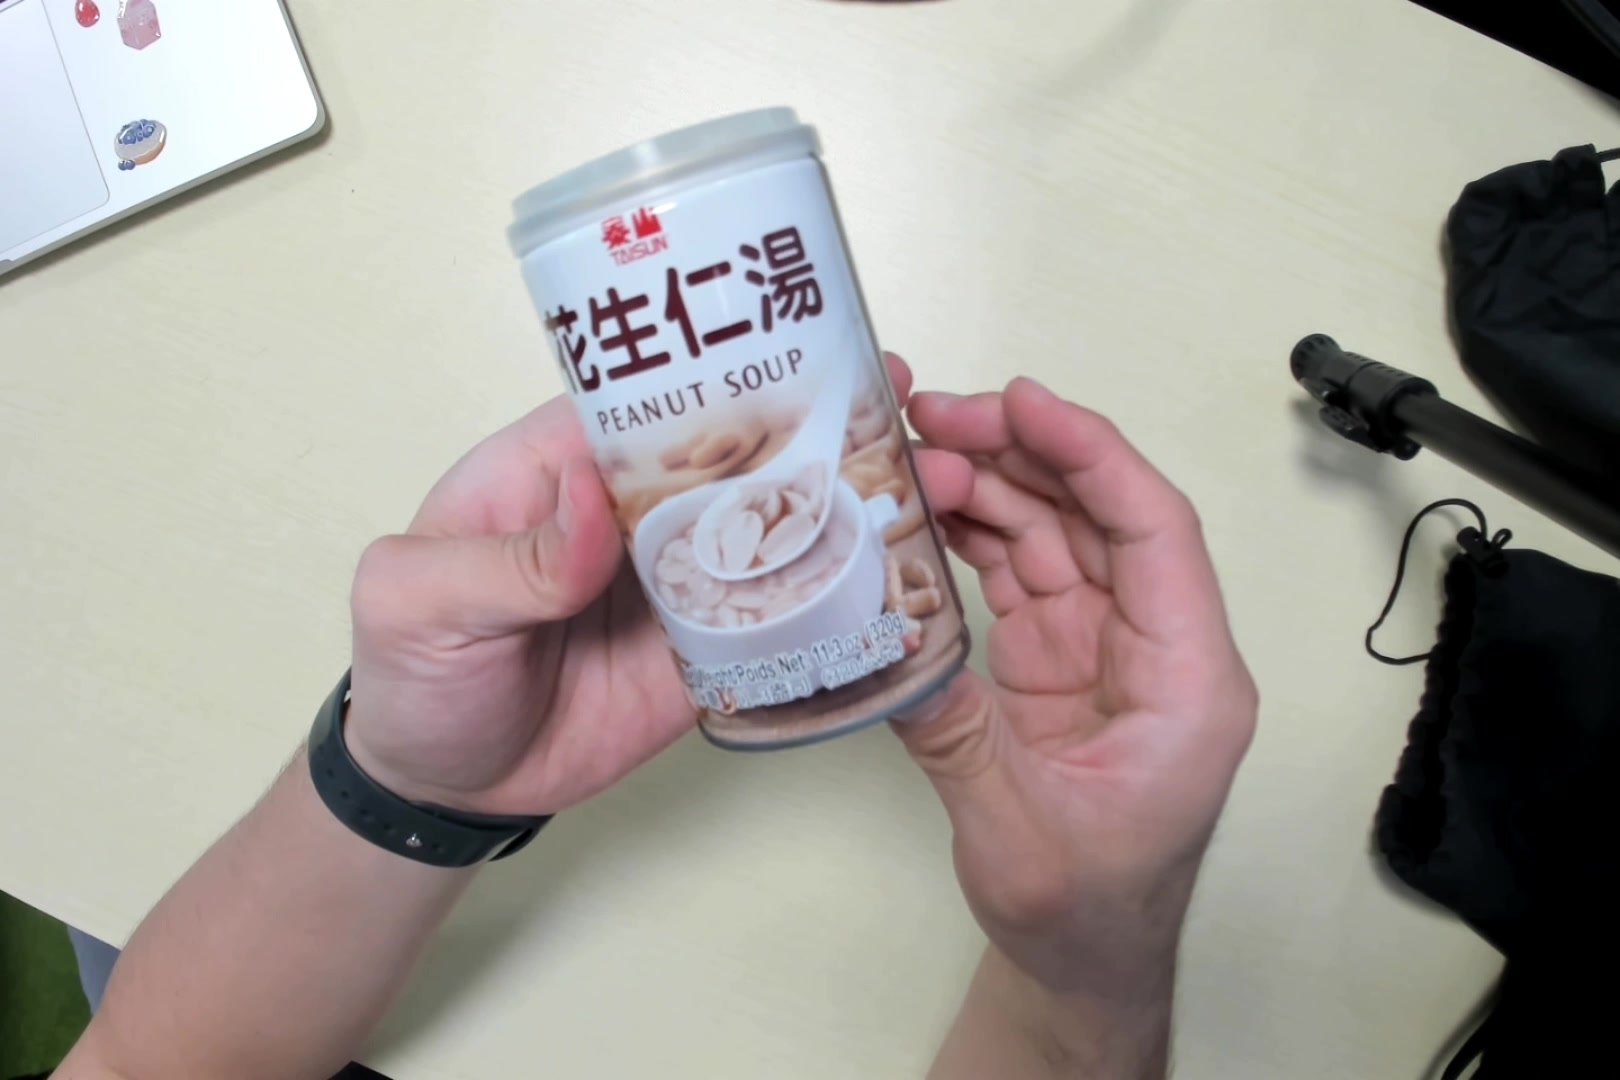InstantMeals_300-399g_NonHalal_NonHealthy: (506, 102, 986, 769)
